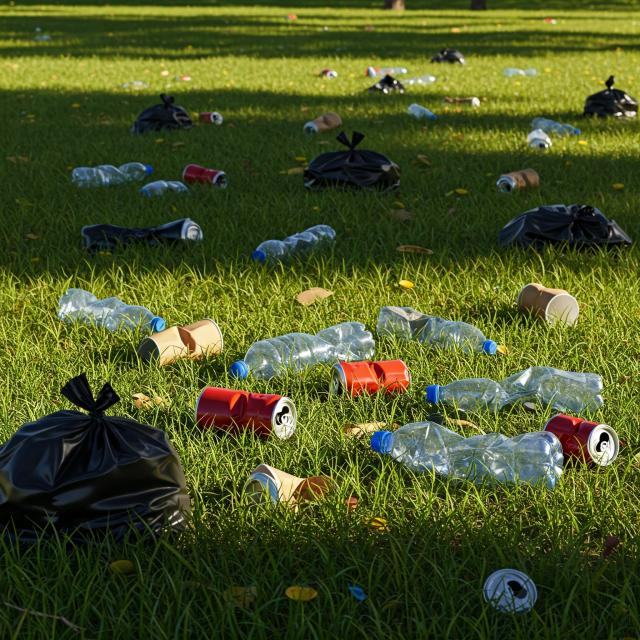aluminum: (197, 378, 300, 447), (462, 559, 542, 618), (330, 356, 410, 402), (174, 159, 230, 192)
paper: (520, 276, 588, 336), (145, 319, 228, 367)
plastic: (367, 423, 566, 491), (376, 287, 505, 360), (430, 366, 610, 417), (233, 316, 377, 378), (42, 267, 170, 335), (243, 220, 353, 266), (71, 148, 157, 188)
